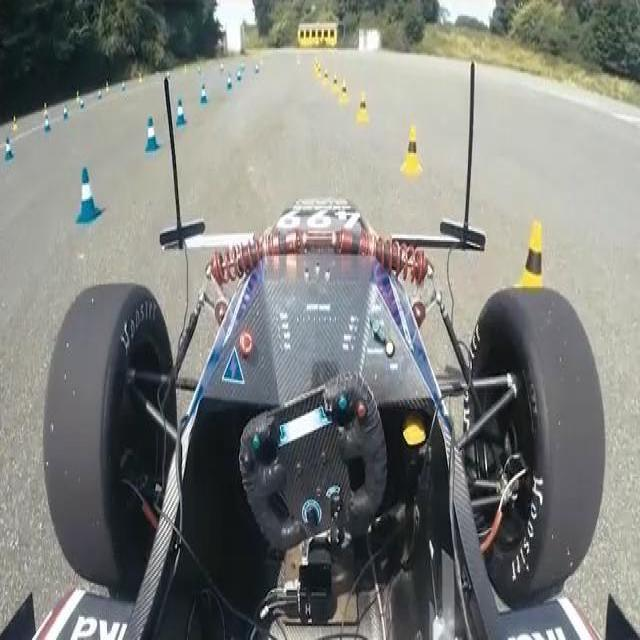blue_cone: (65, 164, 109, 235), (131, 103, 163, 165), (173, 82, 189, 130), (198, 68, 214, 105), (220, 68, 234, 92)
yellow_cone: (501, 210, 558, 302), (396, 112, 430, 178), (326, 55, 353, 103), (352, 87, 375, 143)
